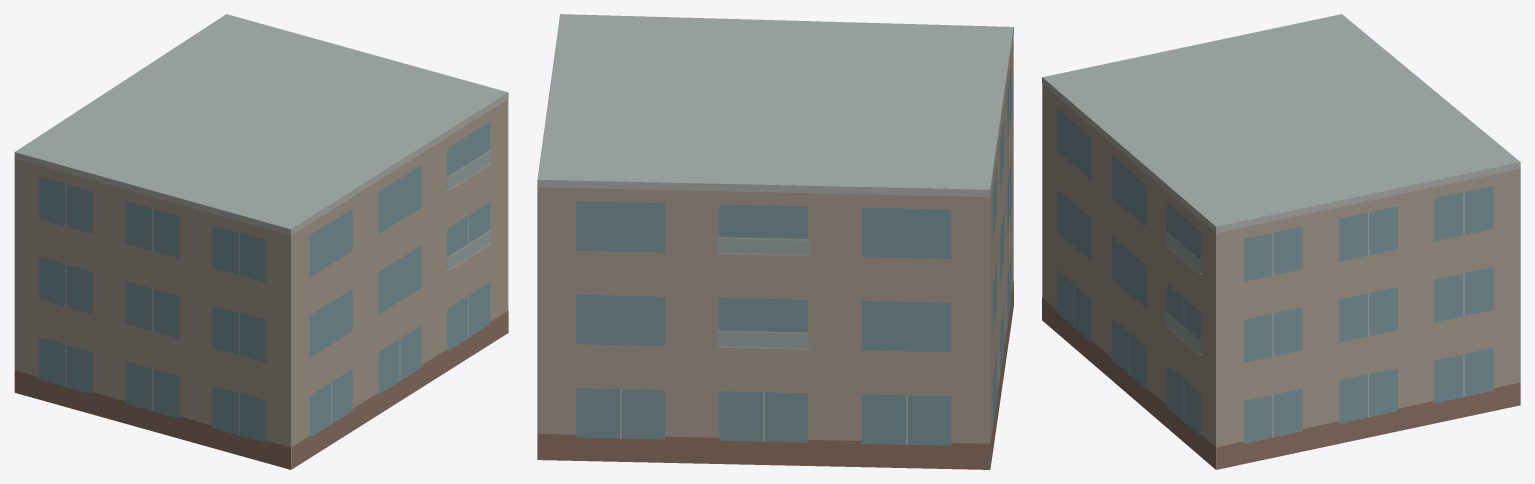
File: survey-upis-32906349.glb
The picture shows the model from 3 angles, left to right: view 1: azimuth 30°, elevation 25°; view 2: azimuth 150°, elevation 25°; view 3: azimuth 270°, elevation 25°; orthographic projection. The views are drawn at different scales.
Visible parts, largest first — view 1: survey-upis-32906349.tmp; view 2: survey-upis-32906349.tmp; view 3: survey-upis-32906349.tmp.
Part boxes in pixels (<box>): survey-upis-32906349.tmp: <box>14,14,508,469</box>; survey-upis-32906349.tmp: <box>537,14,1013,469</box>; survey-upis-32906349.tmp: <box>1042,14,1520,469</box>.
Size of the model in its own units: 17.19 by 9.15 by 16.33.
